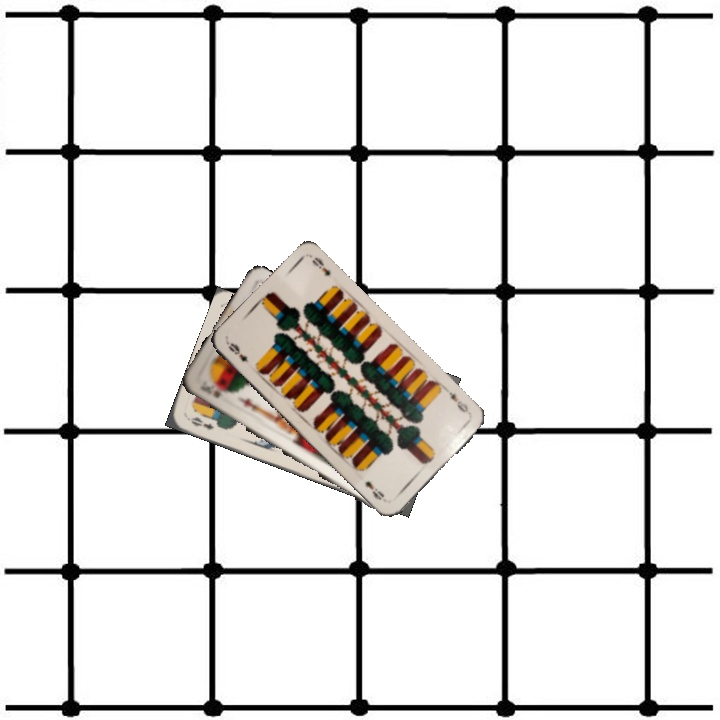E9: (445, 387, 471, 415), (223, 338, 250, 364)
EO: (187, 413, 216, 432)
SK: (199, 381, 224, 401)
